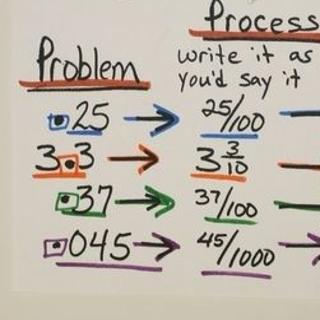.: (64, 159, 75, 171), (49, 240, 62, 250), (61, 194, 70, 206)
0: (69, 227, 87, 259)
2: (71, 98, 89, 130)
3: (31, 139, 61, 172), (75, 182, 96, 214), (76, 139, 96, 171)
4: (86, 225, 109, 261)
5: (109, 228, 132, 262), (90, 101, 112, 131)
7: (98, 182, 114, 215)
